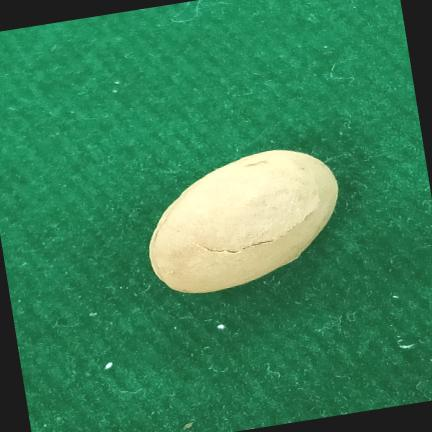parchment: (149, 150, 338, 293)
